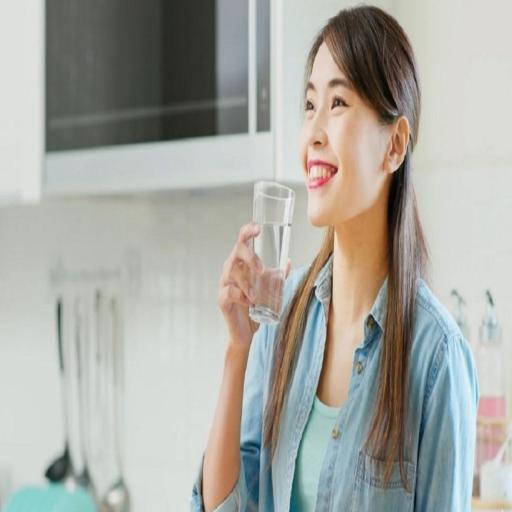cup: (249, 181, 295, 325)
